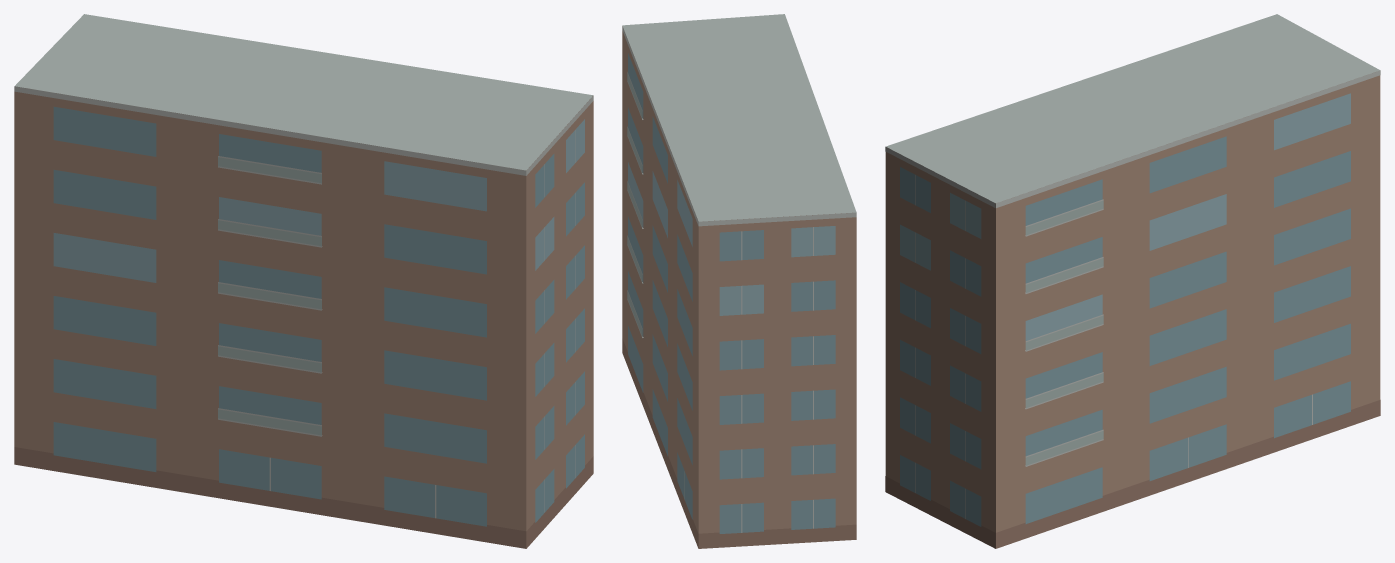
File: survey-upis-32739255.glb
The picture shows the model from 3 angles, left to right: view 1: azimuth 30°, elevation 25°; view 2: azimuth 150°, elevation 25°; view 3: azimuth 270°, elevation 25°; orthographic projection. The views are drawn at different scales.
Visible parts, largest first — view 1: survey-upis-32739255.tmp; view 2: survey-upis-32739255.tmp; view 3: survey-upis-32739255.tmp.
Boxes of the visible parts, left/top/right/bottom form: survey-upis-32739255.tmp: left=14, top=14, right=593, bottom=548; survey-upis-32739255.tmp: left=622, top=14, right=856, bottom=548; survey-upis-32739255.tmp: left=885, top=14, right=1380, bottom=548.
Size of the model in its own units: 20.11 by 17.1 by 22.21.
